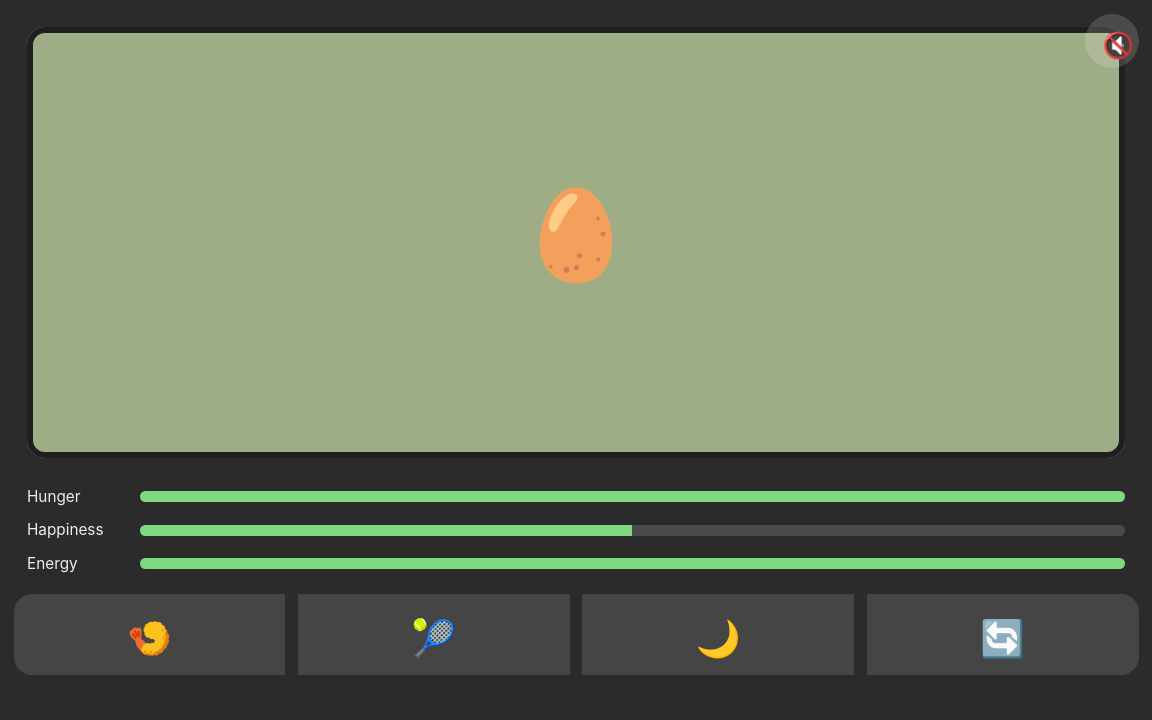
Test: Tamagotchi page › canceling the minigame overlay does not change happiness
The image size is (1152, 720).
Click the button named "Play": (434, 634) [298,594,570,675]
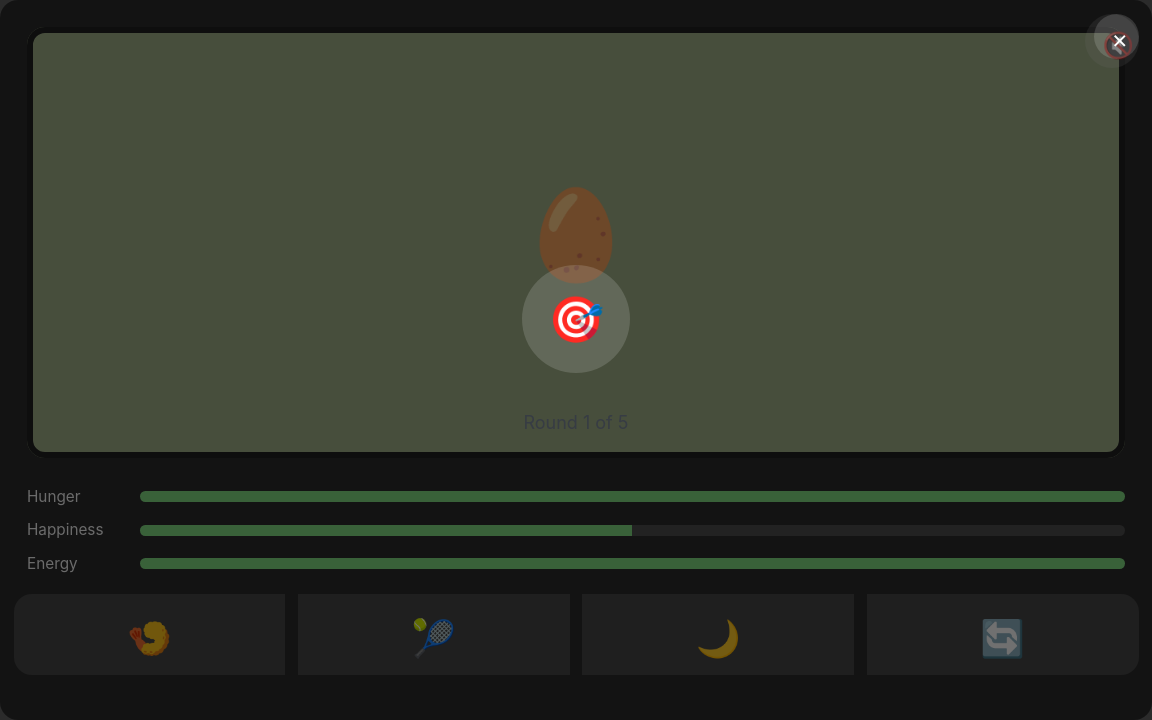
Click the button named "Cancel": (1116, 36) [1094,14,1138,58]
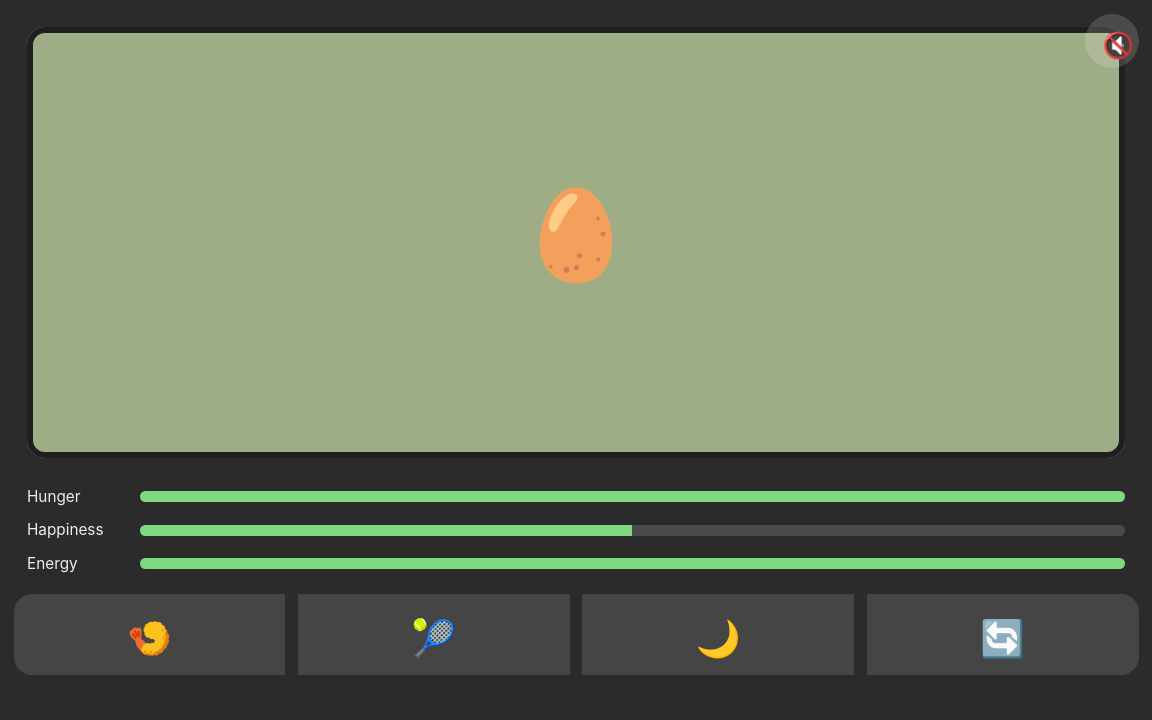
Now the dialog with test id "minigame-overlay" is gone
